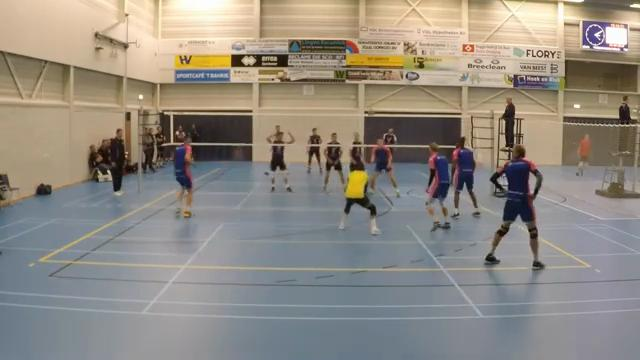Player: (485, 145, 544, 269), (451, 137, 479, 218), (426, 143, 450, 230), (370, 138, 399, 196), (267, 132, 294, 191), (174, 135, 192, 217), (324, 133, 344, 191), (307, 128, 322, 173), (350, 132, 363, 171), (383, 128, 397, 153), (272, 125, 283, 136)
Receive: (334, 158, 391, 237)
ball: (365, 106, 376, 119)
